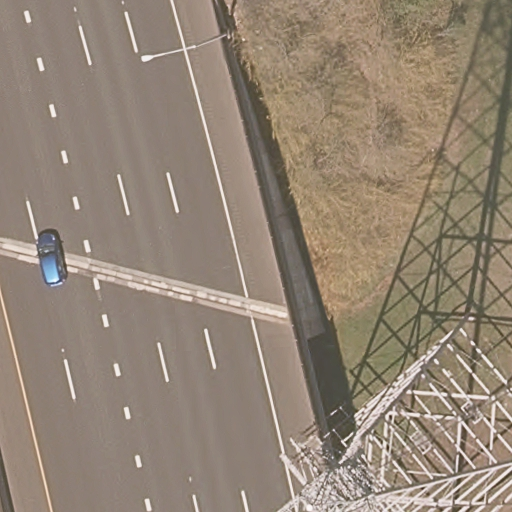TT: (276, 308, 512, 512)
